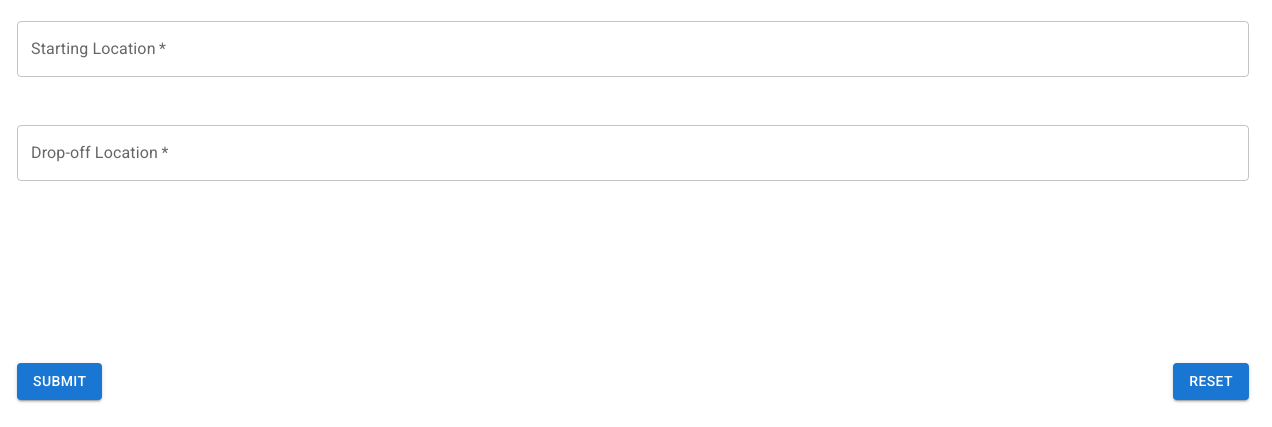
Test: DrawerContent › resets all fields upon reset button click
The image size is (1272, 427).
Check: the dropdown labelled "Drop-off Location *" is shown, box [26,134,1240,172]
Type "start" into the dropdown labelled "Starting Location *" at [633, 49], box [26,30,1240,68]
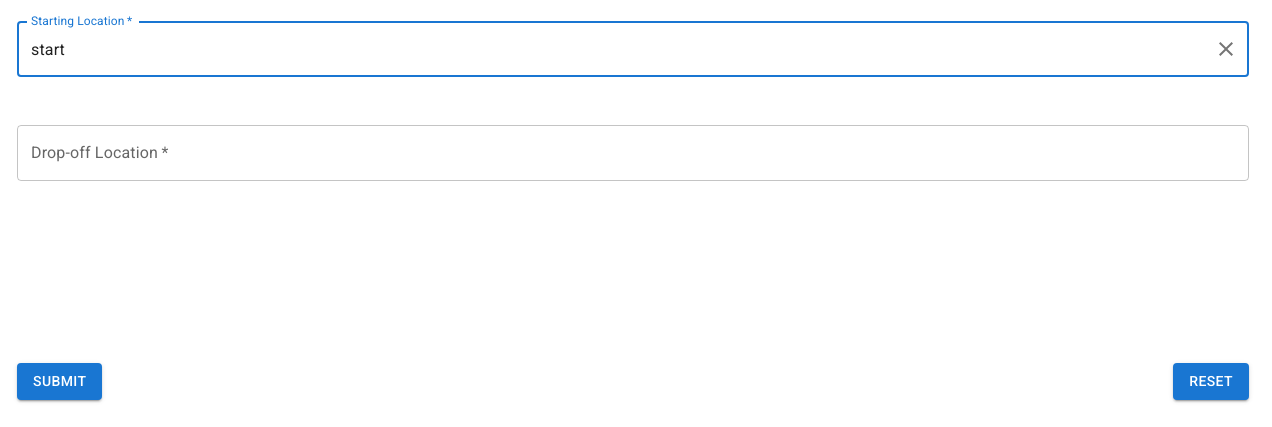
Type "end" into the dropdown labelled "Drop-off Location *" at [633, 153], box [26,134,1240,172]
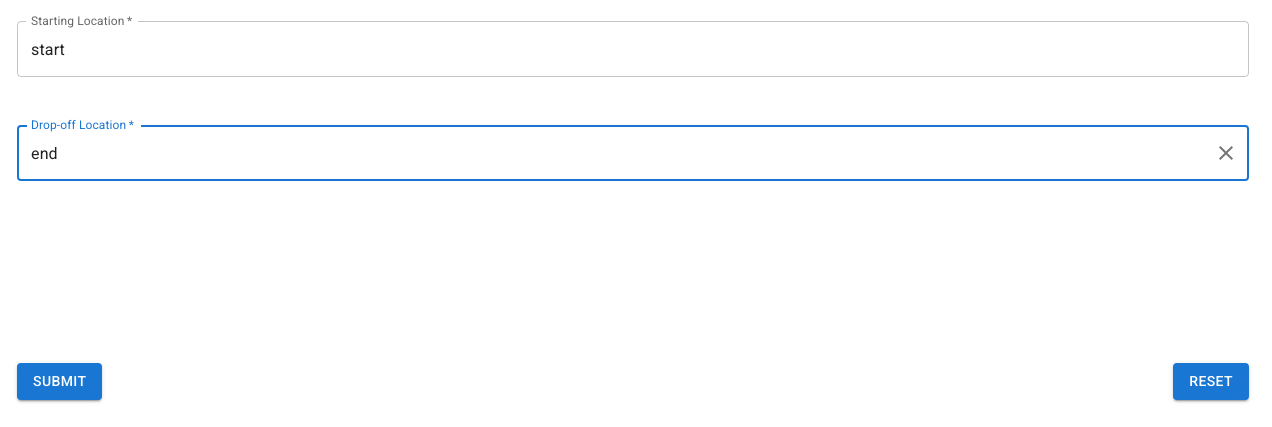
Click the button with test id "resetButton" at [1211, 382], box [1173,364,1249,400]
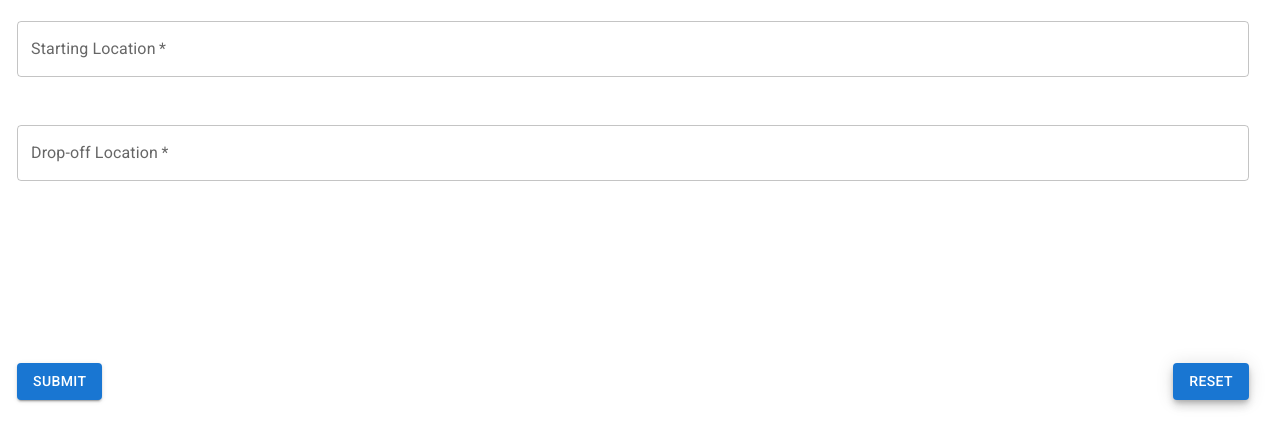
Check: the dropdown labelled "Starting Location *" is empty, box [26,30,1240,68]
Check: the dropdown labelled "Drop-off Location *" is empty, box [26,134,1240,172]
